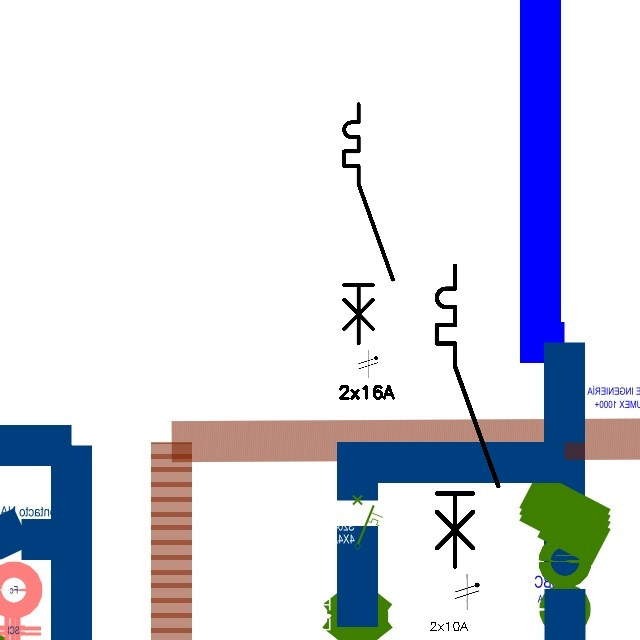interruptor_termomagnetico: (429, 258, 506, 574), (338, 98, 399, 350)
